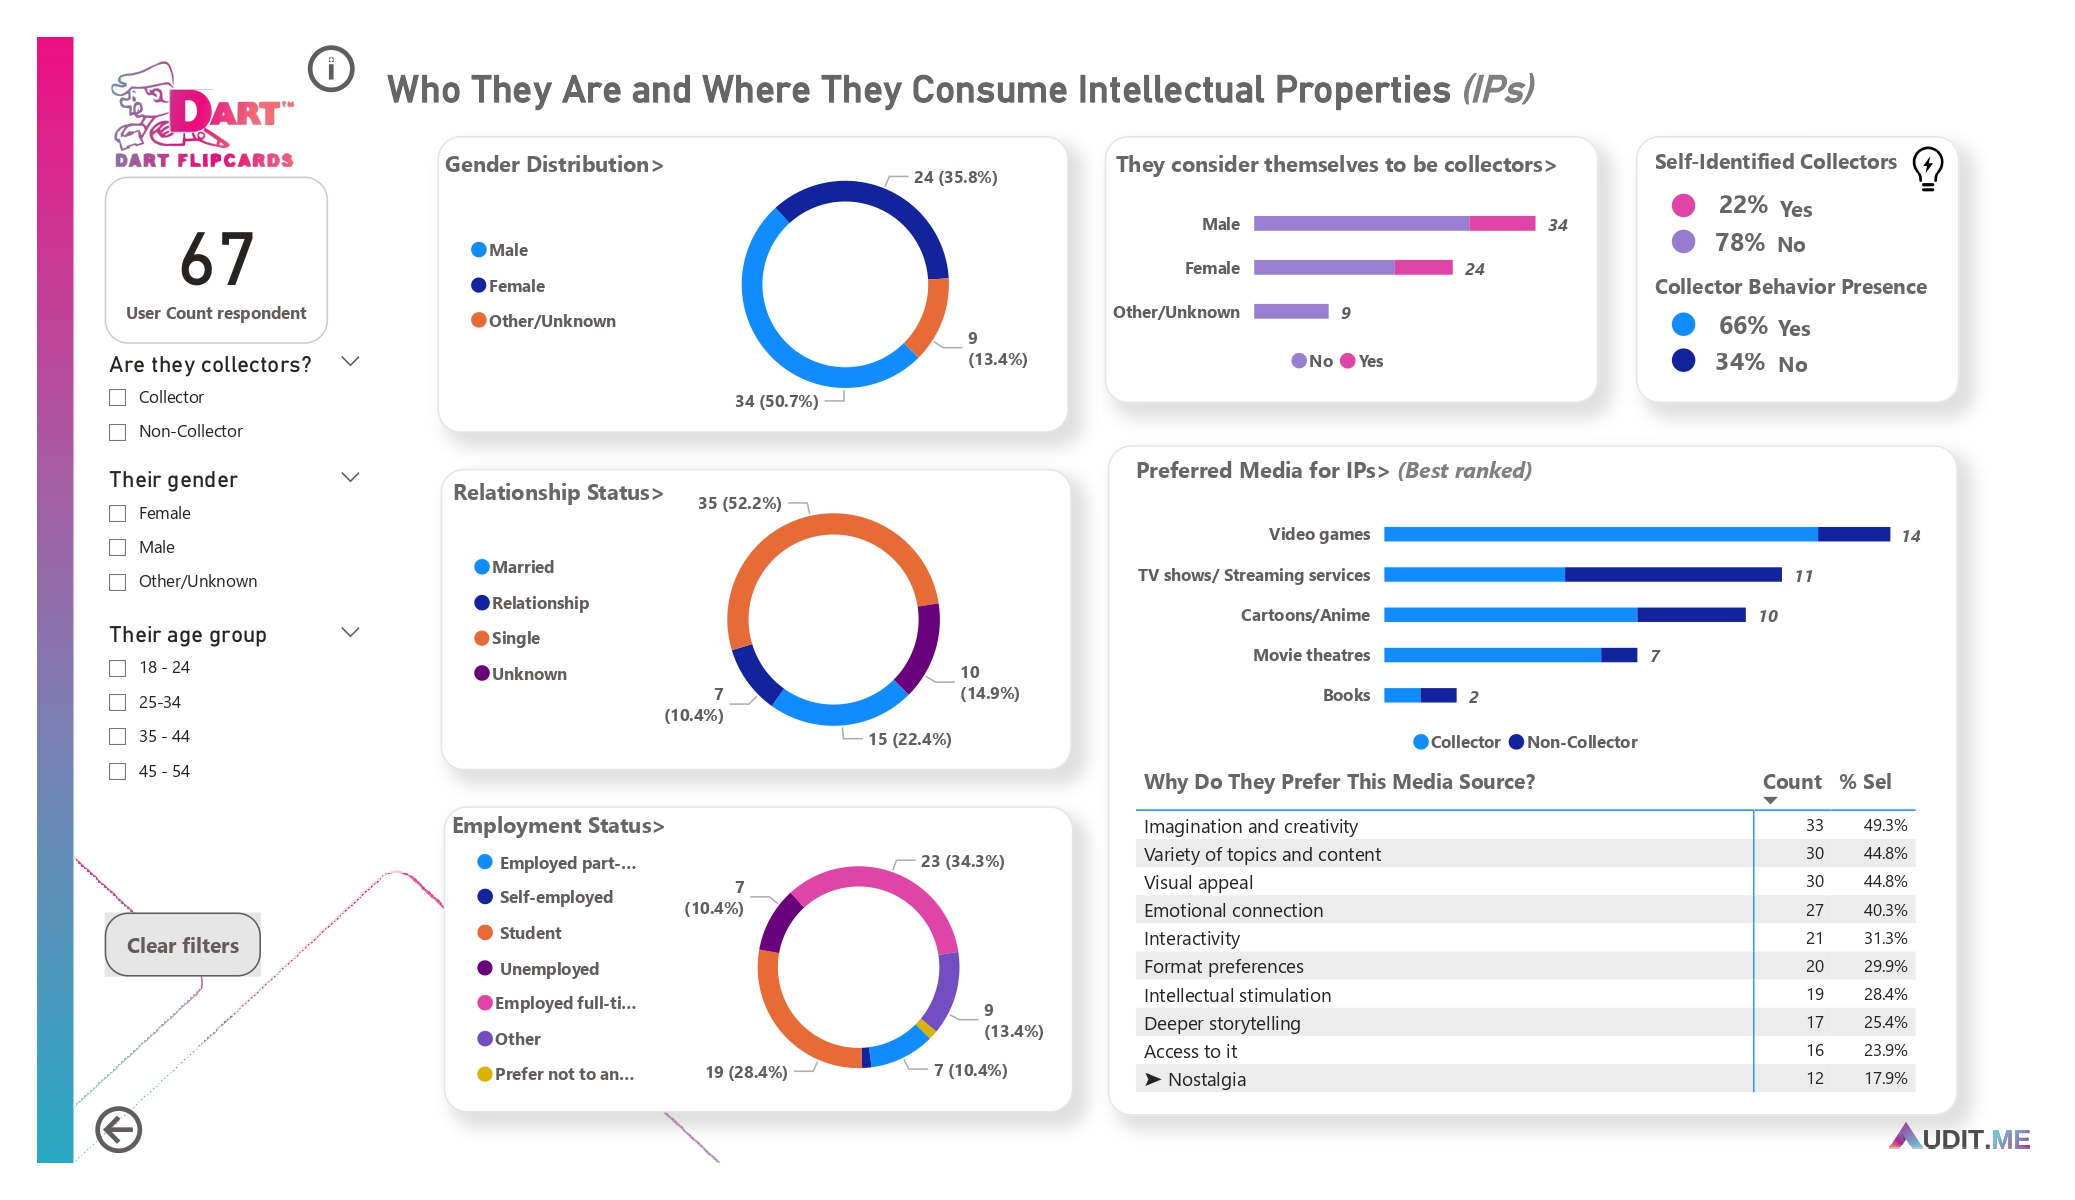

The dashboard page shown, as its layout file describes it:
{"tool":"powerbi","page":{"name":"Who and Where they consume IPs","canvas":[1280,720],"ordinal":0},"visuals":[{"type":"shape","box":[685,261.2,543.8,428.8],"z":0},{"type":"shape","box":[1022.5,62.5,207.5,171.2],"z":1000},{"type":"donutChart","fields":{"Y":["CountNonNull(Raw Data-Original.Employment Status:)"],"Series":["Raw Data-Original.Employment Status:"]},"box":[259.5,491.7,403.6,196.4],"z":2000},{"type":"shape","box":[682.5,62.5,316.2,171.2],"z":3000},{"type":"donutChart","fields":{"Category":["Raw Data-Original.Gender"],"Y":["CountNonNull(Raw Data-Original.Gender)"]},"box":[256.2,62.5,403.8,190],"z":4000},{"type":"donutChart","fields":{"Series":["Raw Data-Original.Status"],"Y":["CountNonNull(Raw Data-Original.Status)"]},"box":[258.3,276.2,403.6,192.9],"z":5000},{"type":"slicer","fields":{"Values":["Raw Data-Original.Gender"]},"box":[32.5,270,186.2,98.8],"z":6000},{"type":"slicer","fields":{"Values":["Raw Data-Original.Q2-Age Group"]},"box":[32.5,368.8,186.2,116.2],"z":7000},{"type":"slicer","fields":{"Values":["Raw Data-Original.Collector habits"]},"box":[32.5,196.2,186.2,73.8],"z":8000},{"type":"actionButton","box":[32.1,678.6,45.2,40.5],"z":9000},{"type":"barChart","fields":{"Category":["Raw Data-Original.Gender"],"Y":["CountNonNull(Raw Data-Original.Gender)"],"Series":["Raw Data-Original.Q24-Consider a Collector"]},"box":[682.1,90.5,303.6,134.5],"z":10000},{"type":"textbox","box":[256.2,66.2,183.8,31.2],"z":11000},{"type":"textbox","box":[260.7,276.2,183.3,31],"z":12000},{"type":"textbox","box":[259.5,489.3,183.3,31],"z":13000},{"type":"pivotTable","fields":{"Rows":["Sheet1.Why Source"],"Values":["Sheet1.Count Why Source","Sheet1.Source Count"]},"box":[697.5,461.2,518.8,228.8],"z":14000},{"type":"textbox","box":[685,66.2,361.2,31.2],"z":15000},{"type":"textbox","box":[697.6,261.9,433.3,29.8],"z":16000},{"type":"image","box":[1180,683.8,100,36.2],"z":17000},{"type":"textbox","box":[218.8,13.8,912.5,45],"z":18000},{"type":"image","box":[0,0,210,97.5],"z":19000},{"type":"actionButton","box":[42.9,559.5,100,41.7],"z":20000},{"type":"card","fields":{"Values":["Raw Data-Original.ConsiderCollectorsNo"]},"box":[1061,117.5,58.3,25],"z":21000},{"type":"shape","box":[1045.9,99.6,15,15],"z":22000},{"type":"shape","box":[1045.9,122.5,15,15],"z":23000},{"type":"card","fields":{"Values":["Raw Data-Original.ConsiderCollectorsYes"]},"box":[1061.8,94.5,60.3,25],"z":24000},{"type":"card","fields":{"Values":["Raw Data-Original.CollectorsNo"]},"box":[1061.4,194.1,57.9,24.2],"z":25000},{"type":"shape","box":[1046.3,176.2,15,15],"z":26000},{"type":"shape","box":[1046.3,198.9,15,15],"z":27000},{"type":"card","fields":{"Values":["Raw Data-Original.CollectorsYes"]},"box":[1061.8,171.5,60.3,24.6],"z":28000},{"type":"textbox","box":[1030,65,185,31.2],"z":29000},{"type":"textbox","box":[1029.8,145,202.5,31.2],"z":30000},{"type":"textbox","box":[1109.5,95.2,42.9,32.1],"z":31000},{"type":"textbox","box":[1108.3,117.9,45.2,31],"z":32000},{"type":"textbox","box":[1108.6,170.7,44.4,30.6],"z":33000},{"type":"textbox","box":[1108.8,194.6,44.3,30.7],"z":34000},{"type":"image","box":[1184.3,62.9,50,42.9],"z":35000},{"type":"card","fields":{"Values":["Raw Data-Original.User Count respondent"]},"box":[42.5,89.5,143.8,106.2],"z":36000},{"type":"barChart","fields":{"Series":["Rank Source.Collector habits"],"Category":["Rank Source.Media Source Rank"],"Y":["Sum(Rank Source.Media Source Rank-Value)"]},"box":[697.6,290.5,511.9,178.6],"z":37000},{"type":"actionButton","box":[167.9,0,41.7,40.5],"z":38000}]}

Visuals, with their boxes on the page's 1280x720 design canvas (x1, y1, x2, y2). These are canvas units, not pixel positions in the 2075x1200 screenshot, which may show the page scaled, cropped or inside an application window:
shape: 685,261,1229,690
shape: 1022,62,1230,234
donutChart - CountNonNull(Raw Data-Original.Employment Status:) x Raw Data-Original.Employment Status:: 260,492,663,688
shape: 682,62,999,234
donutChart - Raw Data-Original.Gender x CountNonNull(Raw Data-Original.Gender): 256,62,660,252
donutChart - Raw Data-Original.Status x CountNonNull(Raw Data-Original.Status): 258,276,662,469
slicer - Raw Data-Original.Gender: 32,270,219,369
slicer - Raw Data-Original.Q2-Age Group: 32,369,219,485
slicer - Raw Data-Original.Collector habits: 32,196,219,270
actionButton: 32,679,77,719
barChart - Raw Data-Original.Gender x CountNonNull(Raw Data-Original.Gender): 682,90,986,225
textbox: 256,66,440,97
textbox: 261,276,444,307
textbox: 260,489,443,520
pivotTable - Sheet1.Why Source x Sheet1.Count Why Source: 698,461,1216,690
textbox: 685,66,1046,97
textbox: 698,262,1131,292
image: 1180,684,1280,720
textbox: 219,14,1131,59
image: 0,0,210,98
actionButton: 43,560,143,601
card - Raw Data-Original.ConsiderCollectorsNo: 1061,118,1119,142
shape: 1046,100,1061,115
shape: 1046,122,1061,138
card - Raw Data-Original.ConsiderCollectorsYes: 1062,94,1122,120
card - Raw Data-Original.CollectorsNo: 1061,194,1119,218
shape: 1046,176,1061,191
shape: 1046,199,1061,214
card - Raw Data-Original.CollectorsYes: 1062,172,1122,196
textbox: 1030,65,1215,96
textbox: 1030,145,1232,176
textbox: 1110,95,1152,127
textbox: 1108,118,1154,149
textbox: 1109,171,1153,201
textbox: 1109,195,1153,225
image: 1184,63,1234,106
card - Raw Data-Original.User Count respondent: 42,90,186,196
barChart - Rank Source.Collector habits x Rank Source.Media Source Rank: 698,290,1210,469
actionButton: 168,0,210,40
